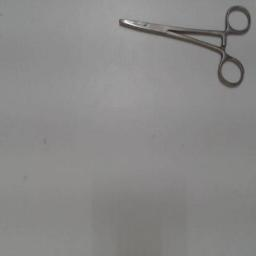Mayo Needle Holder: (116, 3, 254, 95)
